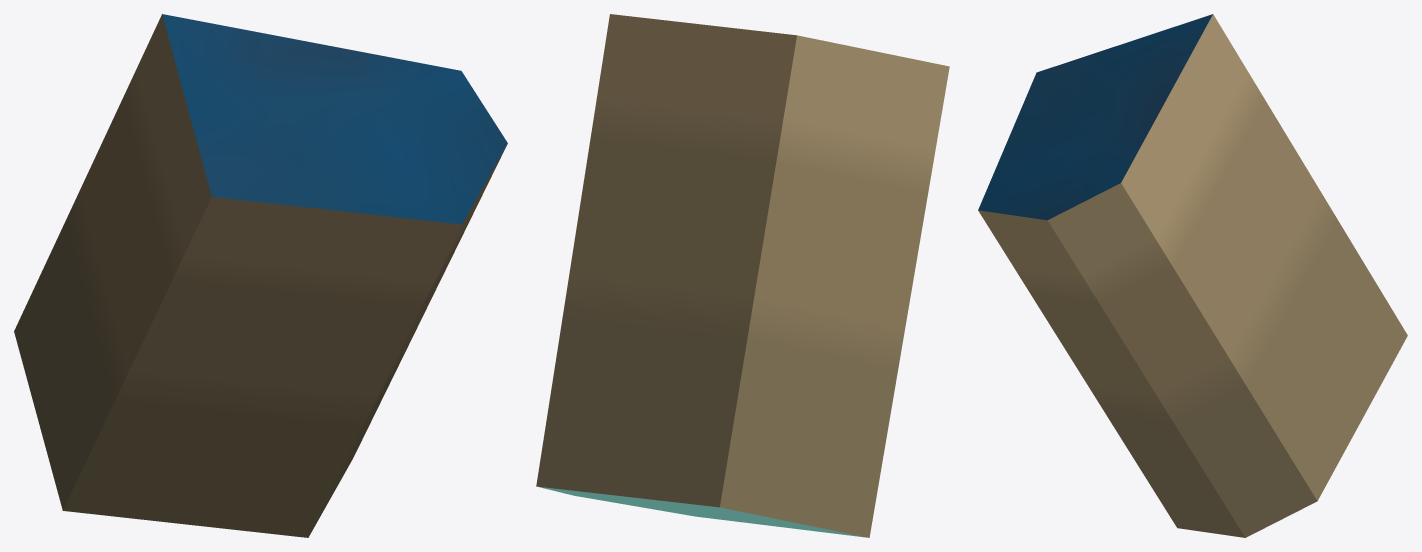
File: 0604_Tonga.glb
The picture shows the model from 3 angles, left to right: view 1: azimuth 30°, elevation 25°; view 2: azimuth 150°, elevation 25°; view 3: azimuth 270°, elevation 25°; orthographic projection. The views are drawn at different scales.
Visible parts, largest first — view 1: part_0; view 2: part_0; view 3: part_0.
Boxes of the visible parts, x1,y1,x2,y2 form: part_0: [14, 14, 507, 537]; part_0: [536, 14, 949, 537]; part_0: [978, 14, 1407, 537].
Bounding box in the file's own units: 0.1582 × 0.2426 × 0.2047.
1 material, 1 textured.
